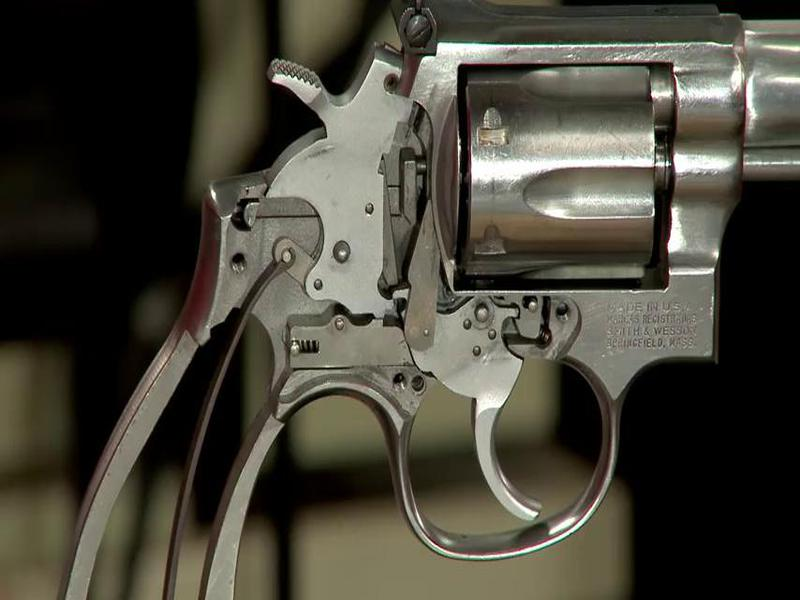Revolver: (95, 16, 800, 563)
